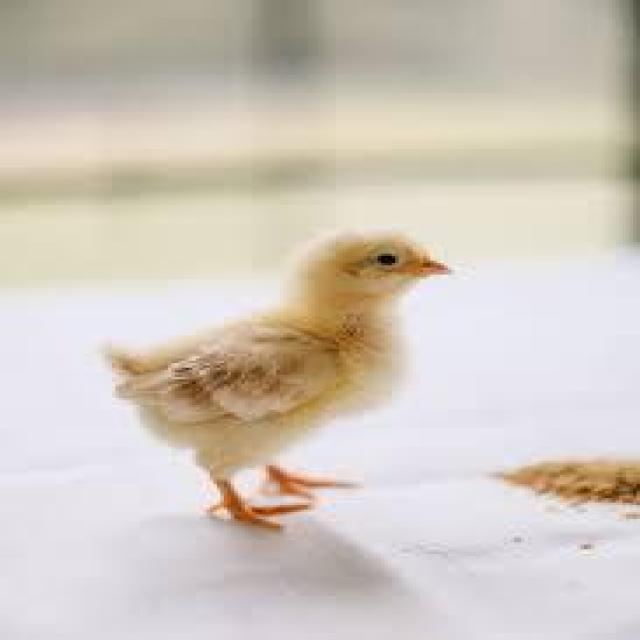poussin: (103, 223, 464, 536)
